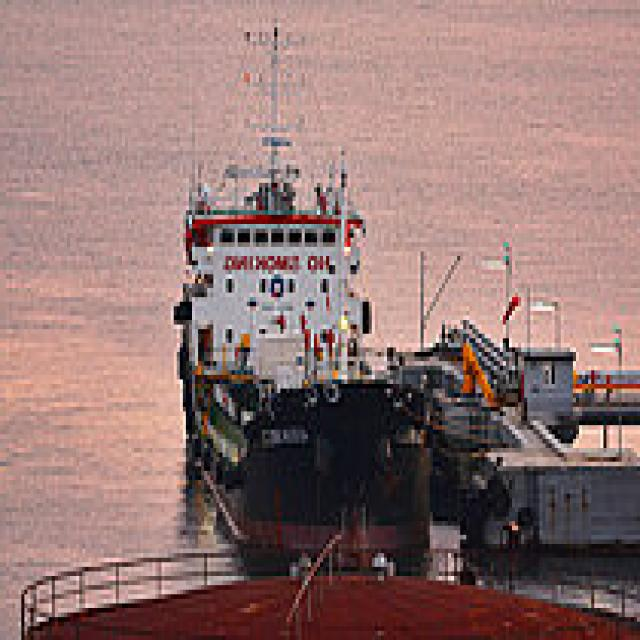Tanker: (174, 23, 445, 548)
